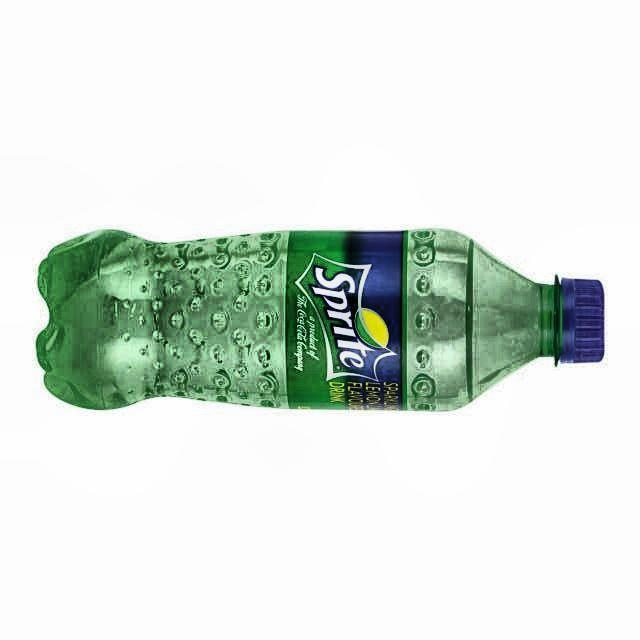plastic: (38, 229, 604, 409)
